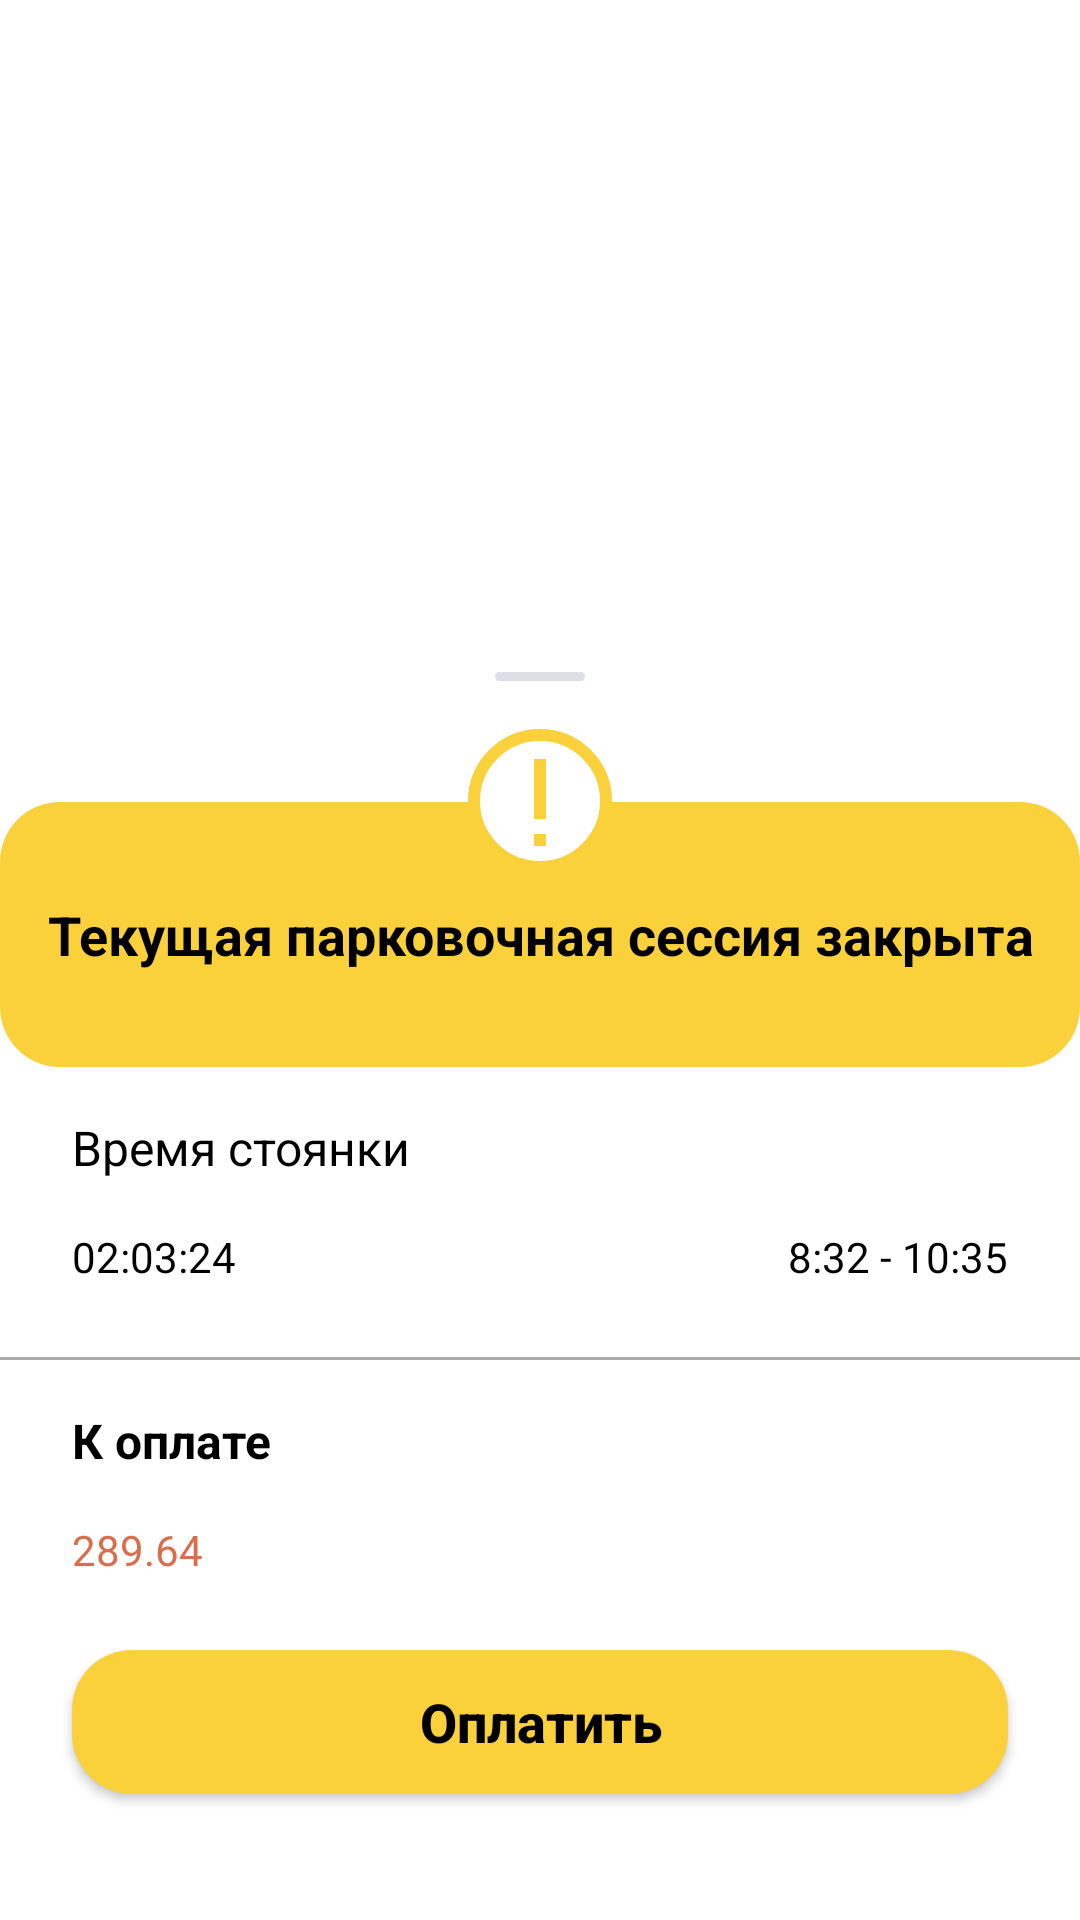

Named icons in this screenshot (1080*1920) and their centers, point (x, y):
exclamation point: point (540, 801)
